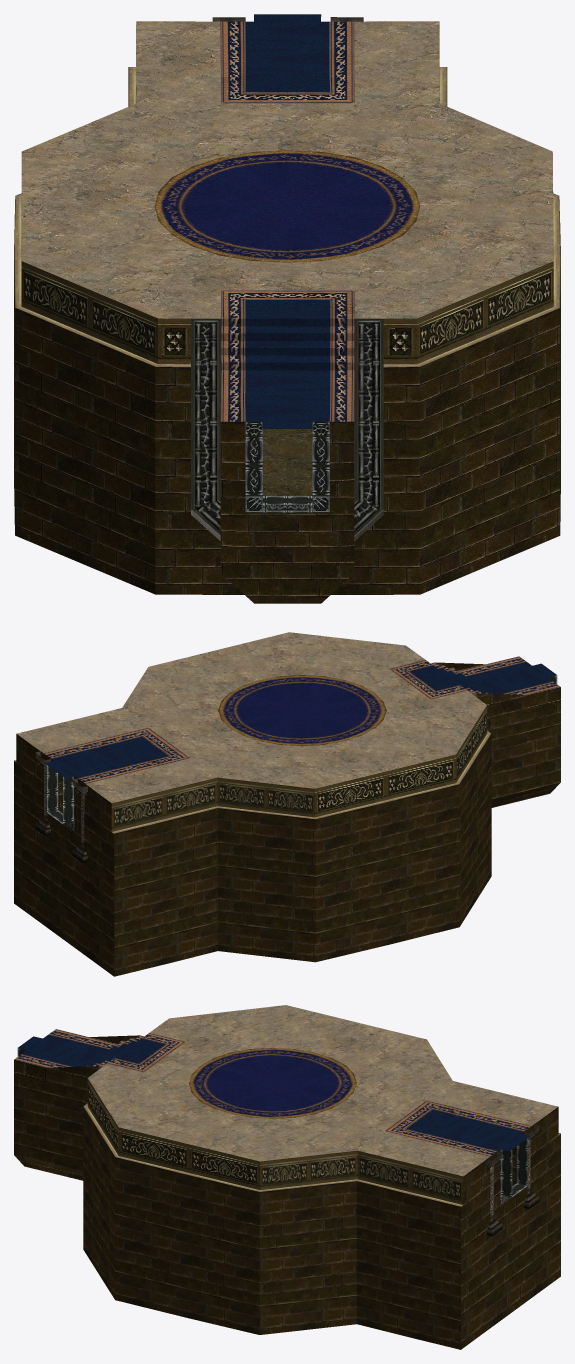
3 renders of one model, top to bottom at view 1: azimuth 30°, elevation 25°; view 2: azimuth 150°, elevation 25°; view 3: azimuth 270°, elevation 25°, orthographic. The views are drawn at different scales.
Visible parts, largest first — view 1: node-0020C3EA, node-011D4A17, node-0126E33F, node-01A6294C, node-0244717E, node-03A7E922, node-02079AD5, node-00E73236, node-014DE739; view 2: node-0020C3EA, node-011D4A17, node-0244717E, node-01A6294C, node-0126E33F, node-02079AD5, node-025DFD3F; view 3: node-0020C3EA, node-011D4A17, node-0244717E, node-01A6294C, node-0126E33F, node-02079AD5, node-025DFD3F.
Boxes of the visible parts, box(x1,y1,x2,y2) form: node-0020C3EA: box(14, 261, 560, 603); node-011D4A17: box(21, 21, 553, 318); node-0126E33F: box(220, 14, 354, 428); node-01A6294C: box(154, 150, 420, 262); node-0244717E: box(14, 67, 560, 366); node-03A7E922: box(191, 318, 383, 536); node-02079AD5: box(245, 421, 329, 512); node-00E73236: box(262, 429, 312, 496); node-014DE739: box(155, 318, 419, 367); node-0020C3EA: box(14, 662, 560, 976); node-011D4A17: box(17, 632, 486, 803); node-0244717E: box(14, 705, 490, 833); node-01A6294C: box(218, 675, 386, 746); node-0126E33F: box(44, 656, 560, 783); node-02079AD5: box(47, 675, 557, 831); node-025DFD3F: box(35, 751, 87, 863); node-0020C3EA: box(14, 1035, 560, 1349); node-011D4A17: box(88, 1005, 557, 1176); node-0244717E: box(83, 1078, 560, 1206); node-01A6294C: box(189, 1048, 356, 1118); node-0126E33F: box(14, 1029, 530, 1156); node-02079AD5: box(17, 1048, 527, 1203); node-025DFD3F: box(487, 1124, 539, 1236).
Size of the model in its own units: 310 by 142 by 409.
12 materials, 12 textured.
